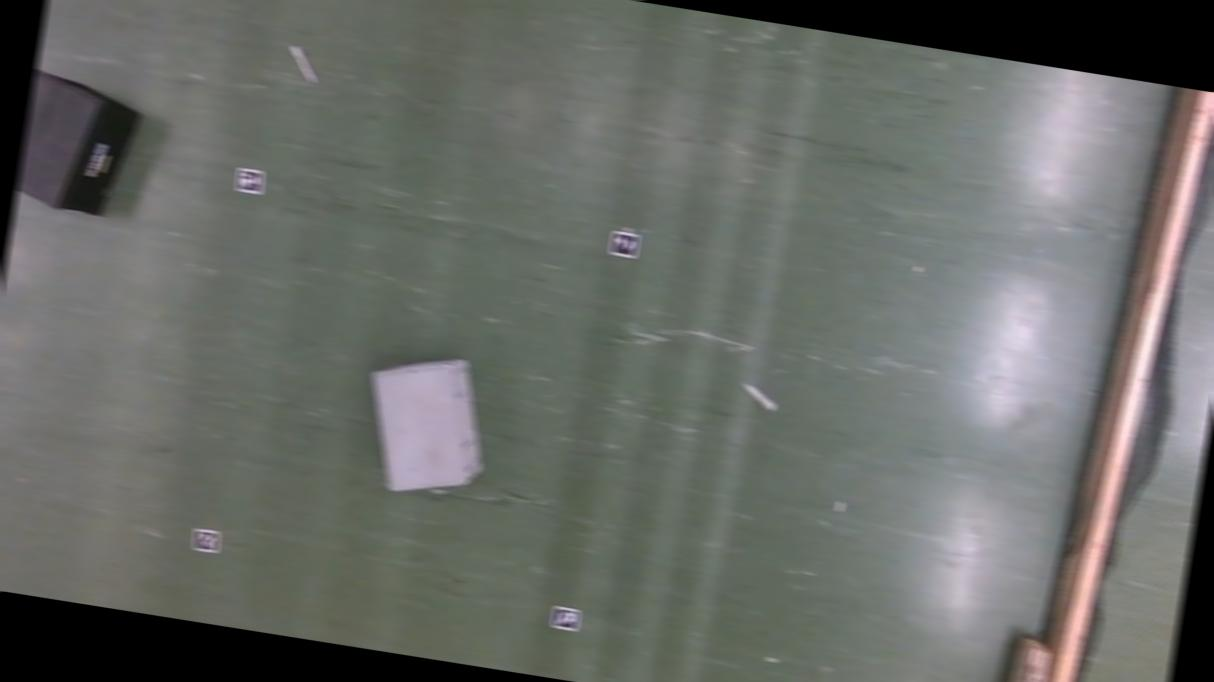probes: (288, 43, 320, 81), (741, 381, 776, 410)
rako: (355, 344, 498, 500), (13, 66, 147, 219)
